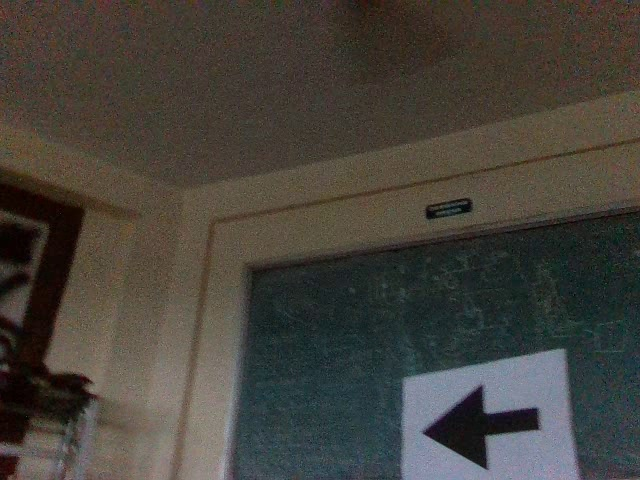Left: (419, 380, 546, 478)
